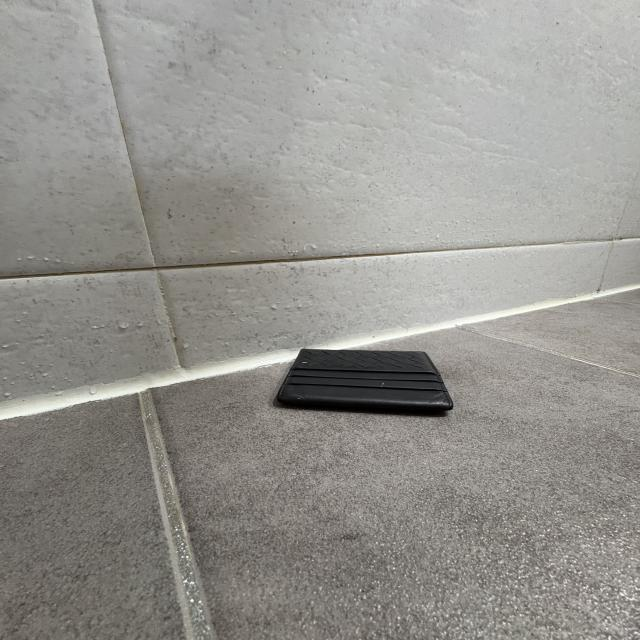wallet: (273, 346, 453, 419)
